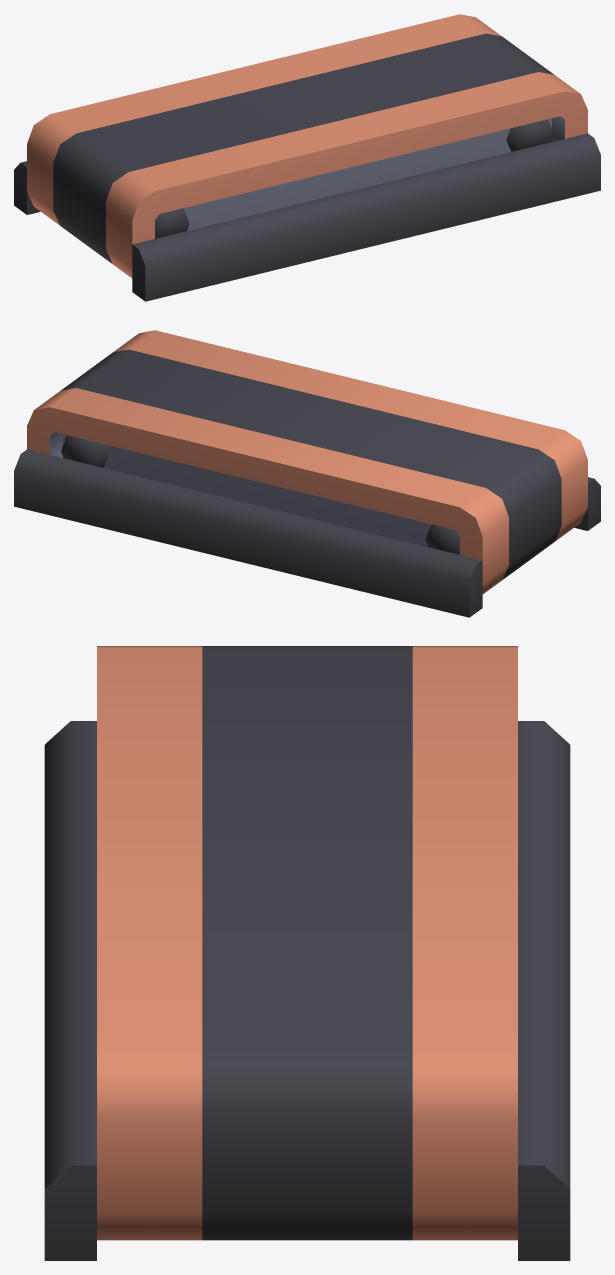
The model's file is conveyor-long-stripe-sides.obj.
The picture shows the model from 3 angles, top to bottom: view 1: azimuth 30°, elevation 25°; view 2: azimuth 150°, elevation 25°; view 3: azimuth 270°, elevation 25°; orthographic projection. The views are drawn at different scales.
Visible parts, largest first — view 1: conveyor-long-stripe-sides; view 2: conveyor-long-stripe-sides; view 3: conveyor-long-stripe-sides.
Part boxes in pixels (<box>): conveyor-long-stripe-sides: <box>14,14,600,301</box>; conveyor-long-stripe-sides: <box>14,330,600,617</box>; conveyor-long-stripe-sides: <box>44,646,570,1260</box>.
Bounding box in the file's own units: 2 × 0.4 × 1.
